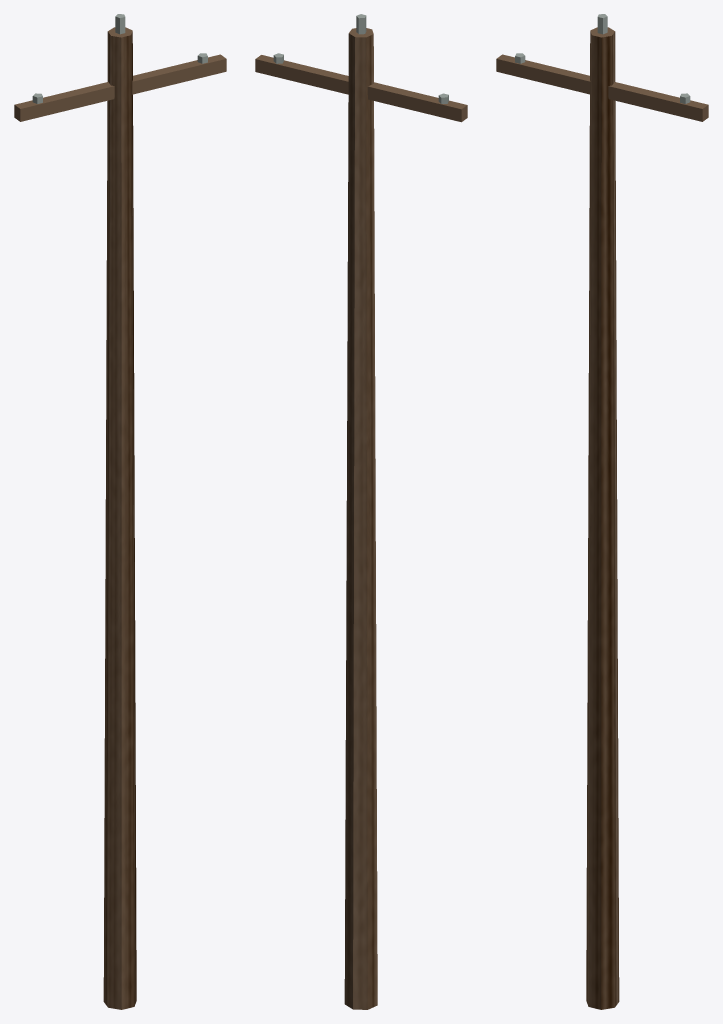
The model's file is power_pole.glb.
3 renders of one model, left to right at view 1: azimuth 30°, elevation 25°; view 2: azimuth 150°, elevation 25°; view 3: azimuth 330°, elevation 25°, orthographic.
Parts seen in each view (by area): view 1: power_pole; view 2: power_pole; view 3: power_pole.
Boxes of the visible parts, x1,y1,x2,y2 form: power_pole: (14, 14, 226, 1009); power_pole: (255, 14, 467, 1009); power_pole: (496, 14, 708, 1009).
Size of the model in its own units: 2 by 9.15 by 0.2709.
2 materials, 1 textured.
